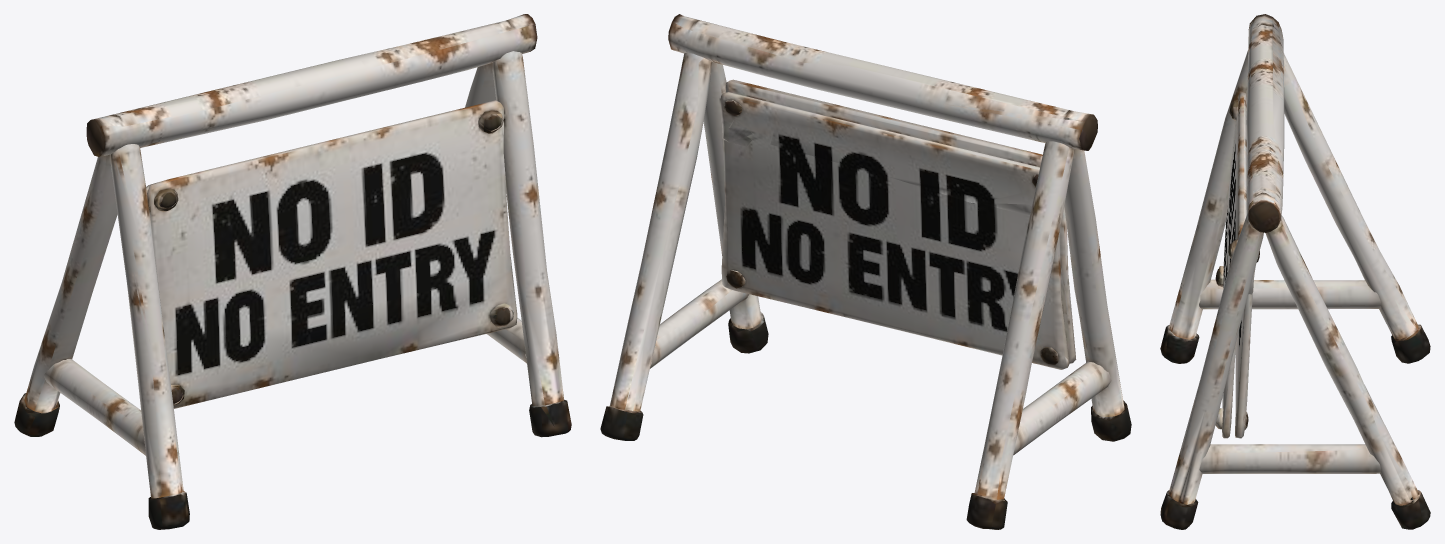
The model's file is no_id_no_entry.glb.
The picture shows the model from 3 angles, left to right: view 1: azimuth 30°, elevation 25°; view 2: azimuth 150°, elevation 25°; view 3: azimuth 270°, elevation 25°; orthographic projection. The views are drawn at different scales.
Parts seen in each view (by area): view 1: Mesh0; view 2: Mesh0; view 3: Mesh0.
Part boxes in pixels (x1,y1,x2,y2): Mesh0: [14, 14, 571, 529]; Mesh0: [600, 14, 1131, 529]; Mesh0: [1160, 14, 1430, 529].
Size of the model in its own units: 1 by 0.836 by 0.609.
Materials: 1 (1 with a texture image).
